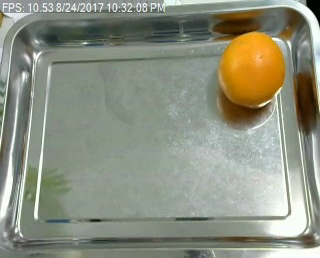Orange: (217, 29, 284, 107)
